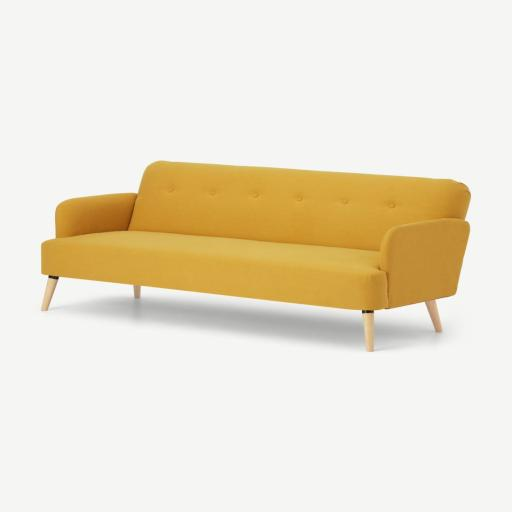back_cushion: (129, 161, 470, 250)
left_arm: (380, 219, 469, 308)
legs: (41, 276, 58, 311), (363, 311, 374, 351), (434, 315, 442, 331), (427, 302, 436, 314), (134, 286, 140, 297)
right_arm: (56, 193, 137, 238)
seat_cushion: (42, 231, 387, 309)
two-seater: (0, 0, 511, 512)
